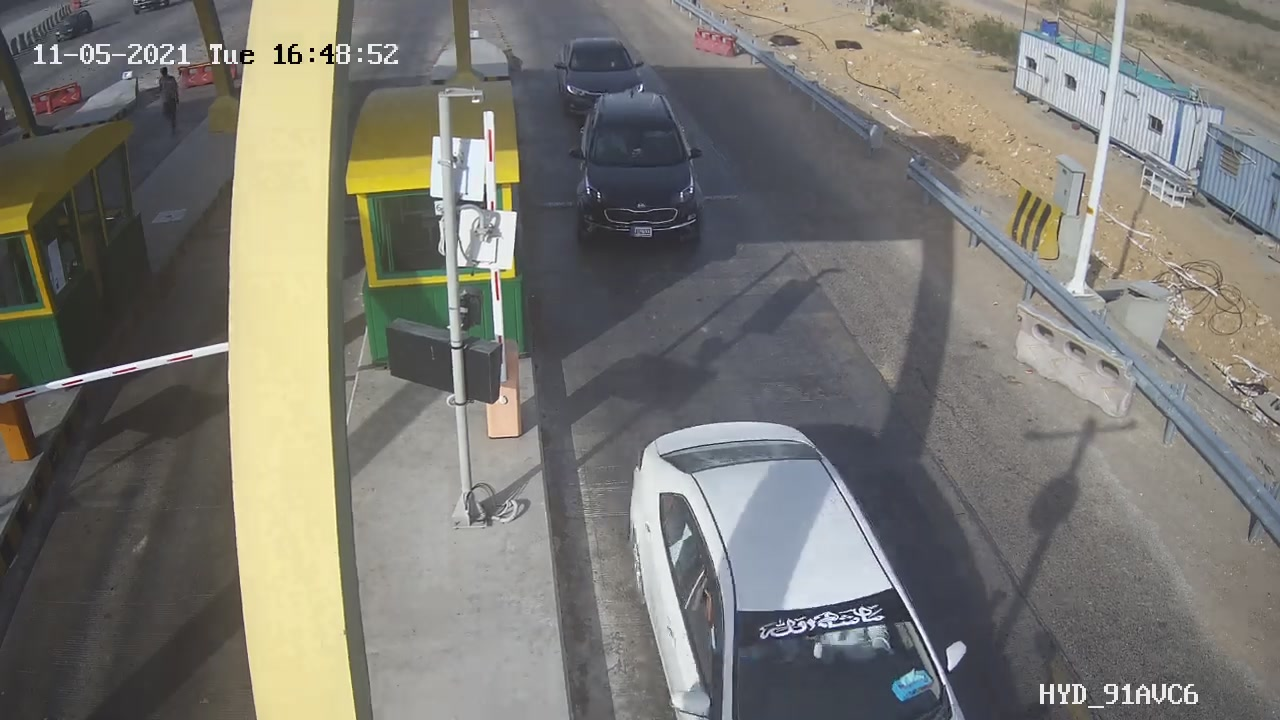F1: (563, 77, 724, 261)
